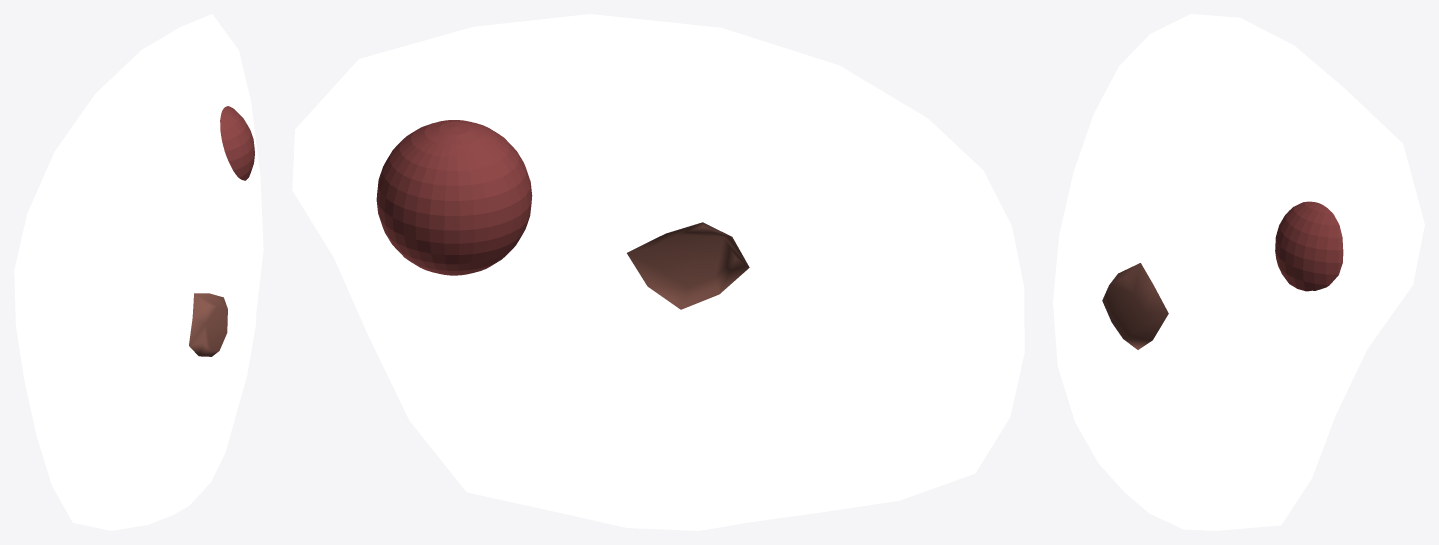
Rendered from mama_caso_001.glb.
3 views of the same model, side by side, from view 1: azimuth 30°, elevation 25°; view 2: azimuth 150°, elevation 25°; view 3: azimuth 270°, elevation 25° (orthographic). The views are drawn at different scales.
Visible parts, largest first — view 1: Mammary region.l, Sphere.002; view 2: Mammary region.l, Sphere.002; view 3: Mammary region.l, Sphere.002.
Part boxes in pixels (bbox=[...]): Mammary region.l: bbox=[14, 14, 263, 530]; Sphere.002: bbox=[220, 106, 254, 180]; Mammary region.l: bbox=[292, 14, 1024, 530]; Sphere.002: bbox=[376, 120, 532, 275]; Mammary region.l: bbox=[1053, 14, 1424, 530]; Sphere.002: bbox=[1275, 201, 1343, 291].
Size of the model in its own units: 0.078 by 0.0816 by 0.0578.
